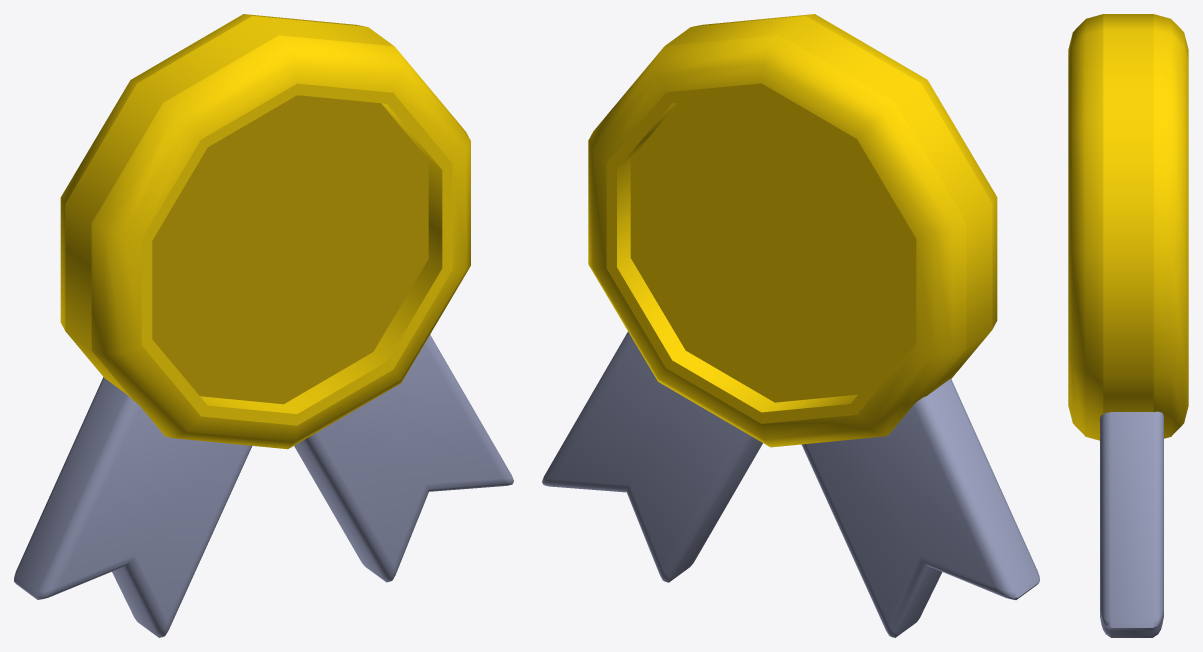
File: Medal_5.fbx
The picture shows the model from 3 angles, left to right: view 1: azimuth 30°, elevation 25°; view 2: azimuth 150°, elevation 25°; view 3: azimuth 270°, elevation 25°; orthographic projection. The views are drawn at different scales.
Visible parts, largest first — view 1: Medal_5; view 2: Medal_5; view 3: Medal_5.
Part boxes in pixels (x1=…): Medal_5: x1=14, y1=14, x2=513, y2=637; Medal_5: x1=542, y1=14, x2=1039, y2=637; Medal_5: x1=1068, y1=14, x2=1188, y2=637.
Bounding box in the file's own units: 0.2168 × 0.2502 × 0.0494.
